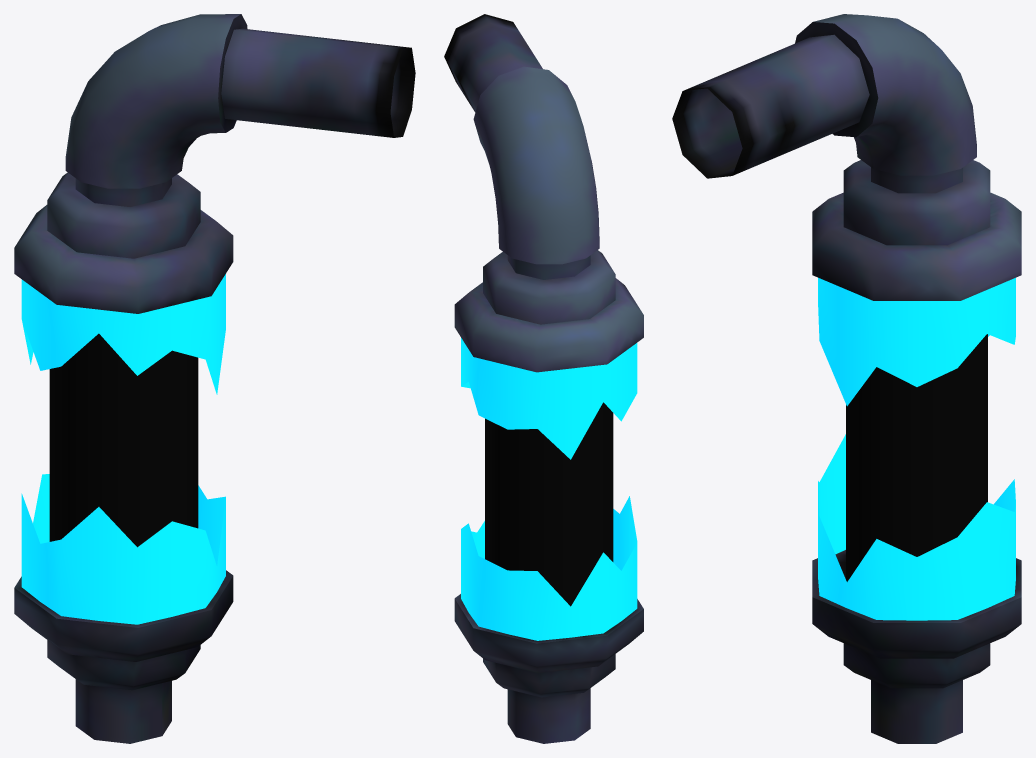
Rendered from finalBoss-reactors2Broken.glb.
3 renders of one model, left to right at view 1: azimuth 30°, elevation 25°; view 2: azimuth 150°, elevation 25°; view 3: azimuth 270°, elevation 25°, orthographic. The views are drawn at different scales.
Parts seen in each view (by area): view 1: finalBoss-reactorsBroken2; view 2: finalBoss-reactorsBroken2; view 3: finalBoss-reactorsBroken2.
Part boxes in pixels (box(x1,y1,x2,y2)): finalBoss-reactorsBroken2: box(14, 14, 415, 743); finalBoss-reactorsBroken2: box(444, 14, 643, 743); finalBoss-reactorsBroken2: box(672, 14, 1021, 743).
Bounding box in the file's own units: 0.6994 × 1.62 × 0.6994.
Materials: 2 (1 with a texture image).
